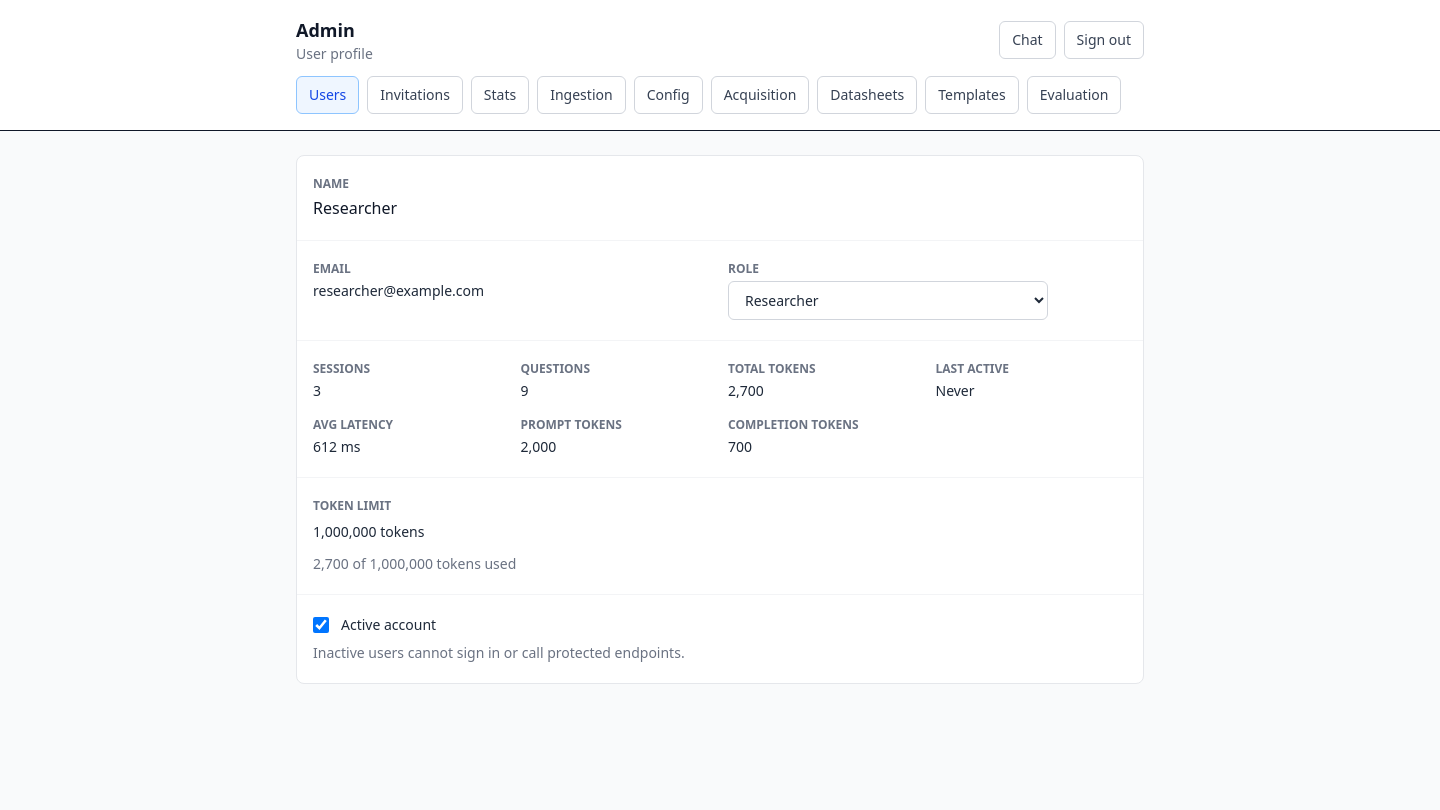
Test: AdminUserClient › adds the selected quick amount to the current token limit
Click the button "1,000,000 tokens" at [369, 532], box x1=313 y1=518 x2=424 y2=546
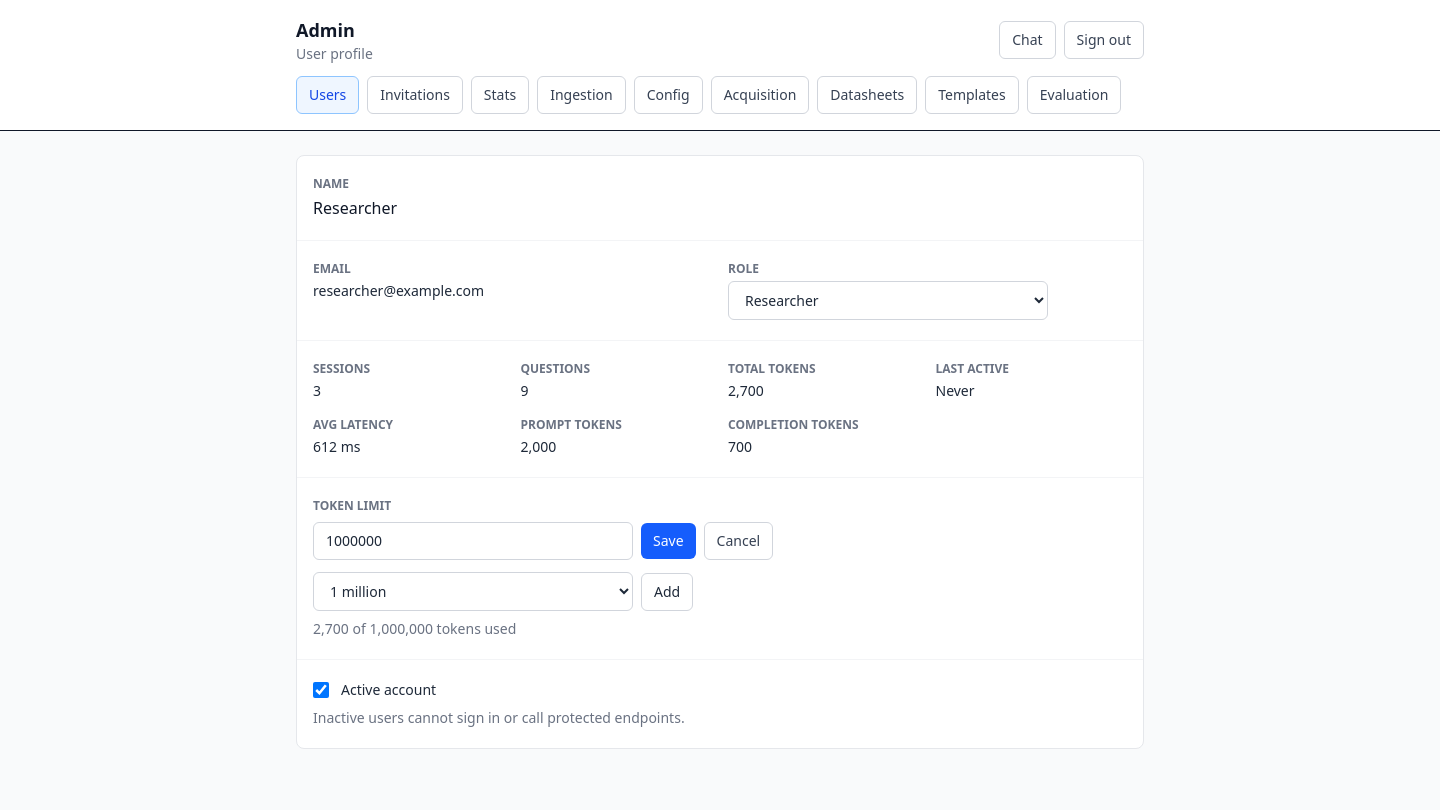
Select "5 million" in the dropdown named "Token limit amount to add" at [473, 592], box x1=313 y1=572 x2=633 y2=611
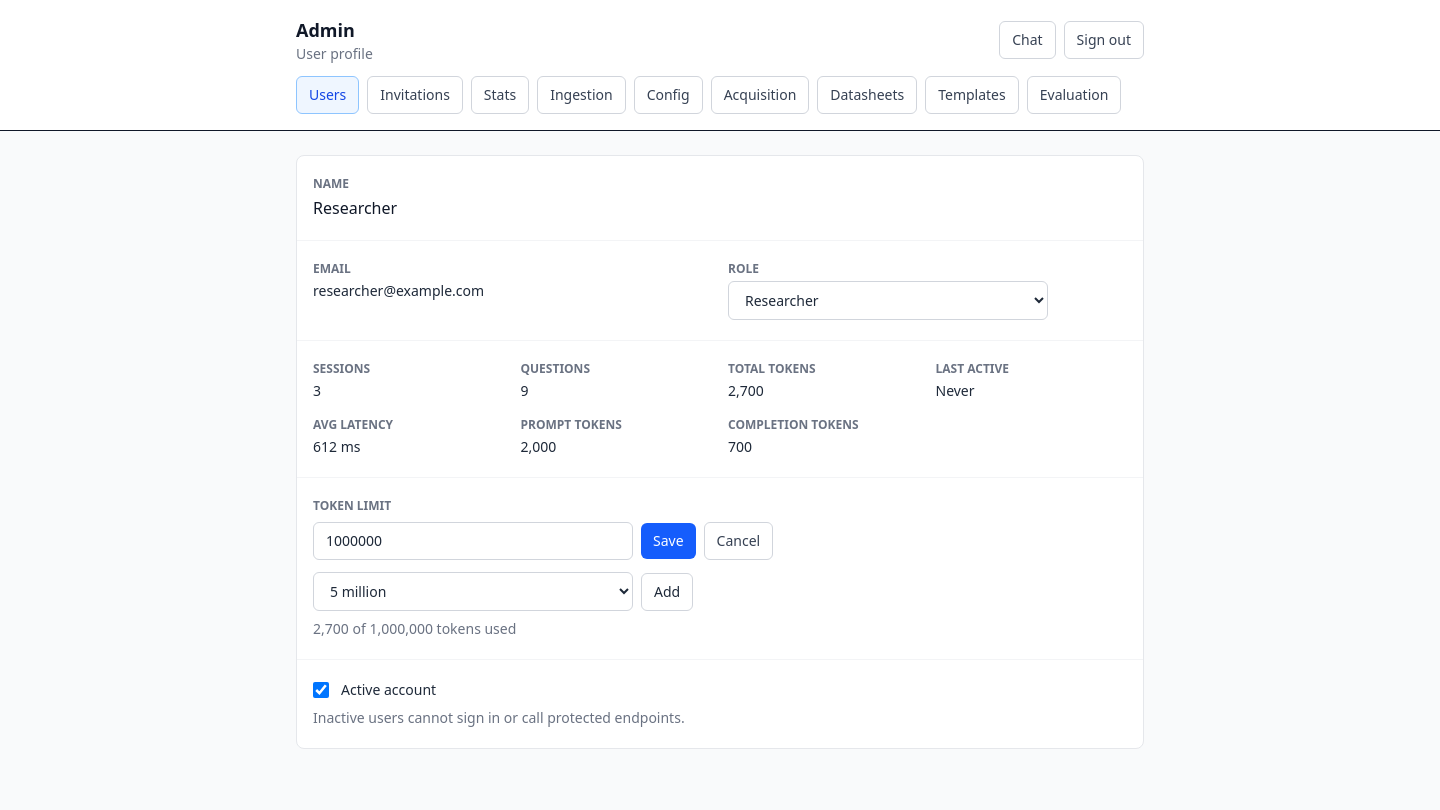
Click the button "Add" at [667, 592], box x1=641 y1=572 x2=693 y2=610
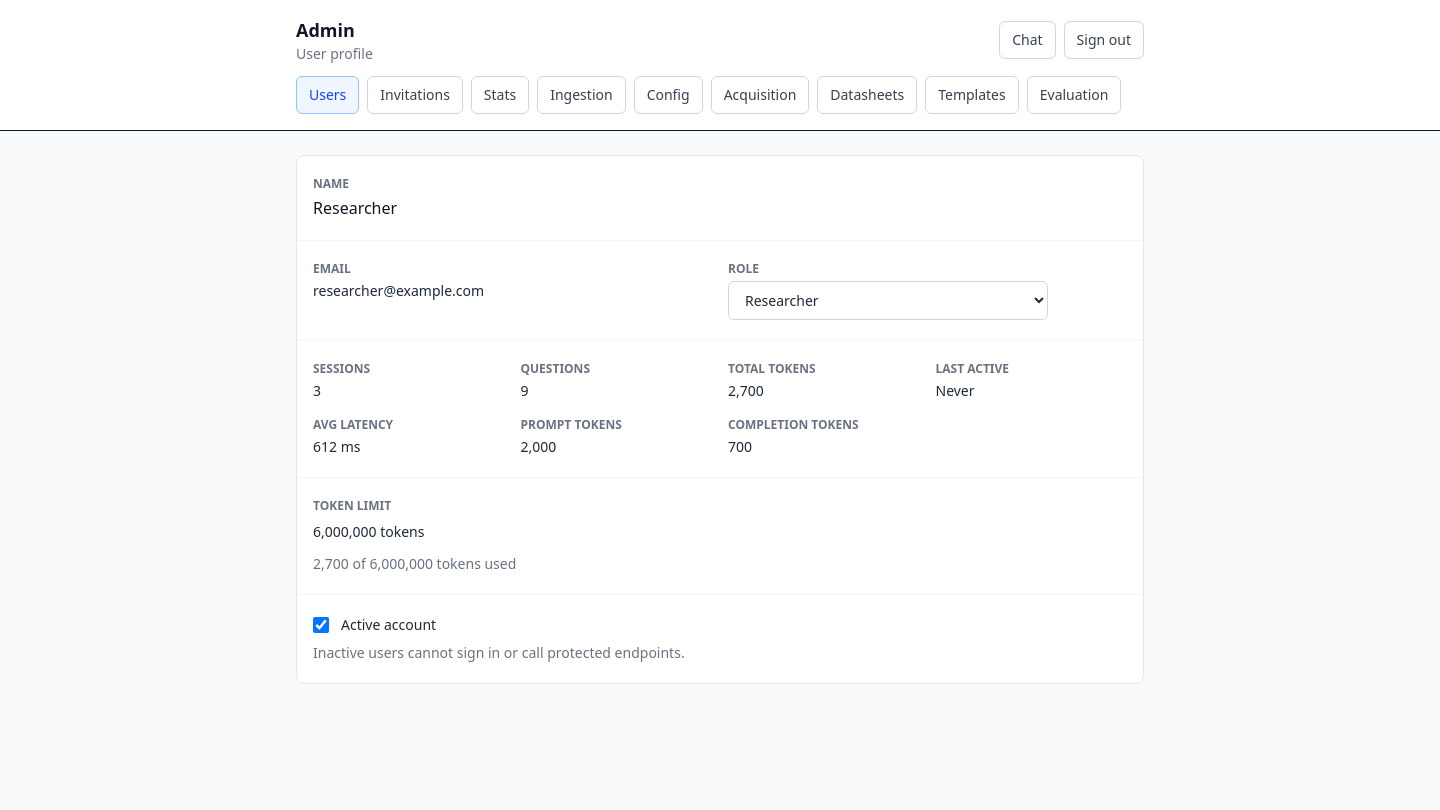
Now the button "6,000,000 tokens" is shown, box x1=313 y1=518 x2=424 y2=546
